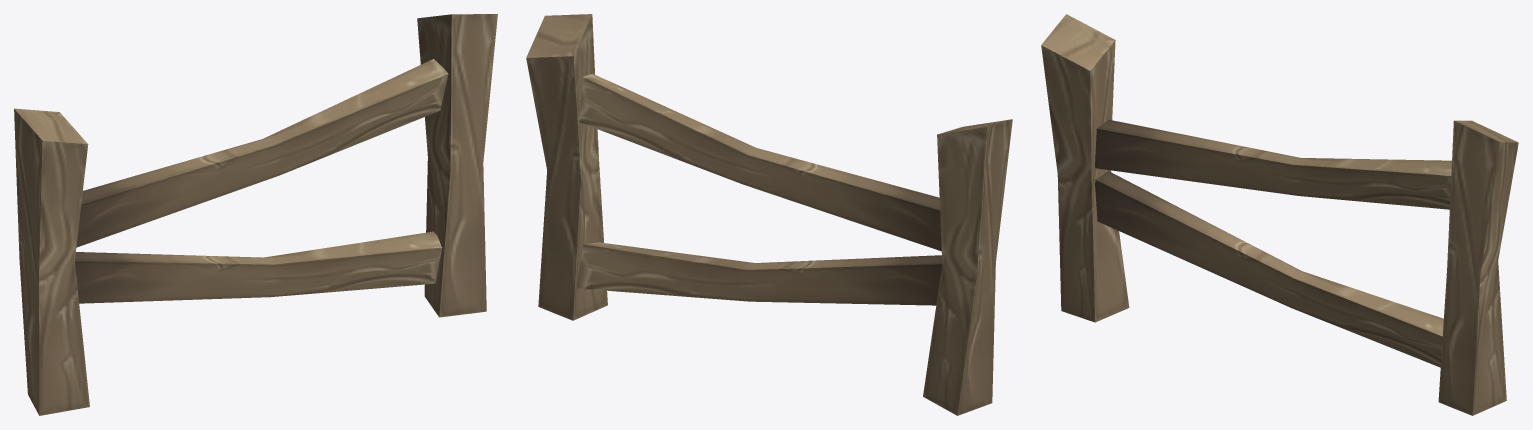
The model's file is Egypt_Village_Props_14.FBX.
3 renders of one model, left to right at view 1: azimuth 30°, elevation 25°; view 2: azimuth 150°, elevation 25°; view 3: azimuth 330°, elevation 25°, orthographic. The views are drawn at different scales.
Parts seen in each view (by area): view 1: Egypt_Village_Props_14; view 2: Egypt_Village_Props_14; view 3: Egypt_Village_Props_14.
Part boxes in pixels (box(x1,y1,x2,y2)): Egypt_Village_Props_14: box(14, 14, 497, 415); Egypt_Village_Props_14: box(526, 14, 1012, 415); Egypt_Village_Props_14: box(1041, 14, 1518, 415).
Size of the model in its own units: 246 by 150 by 36.85.
